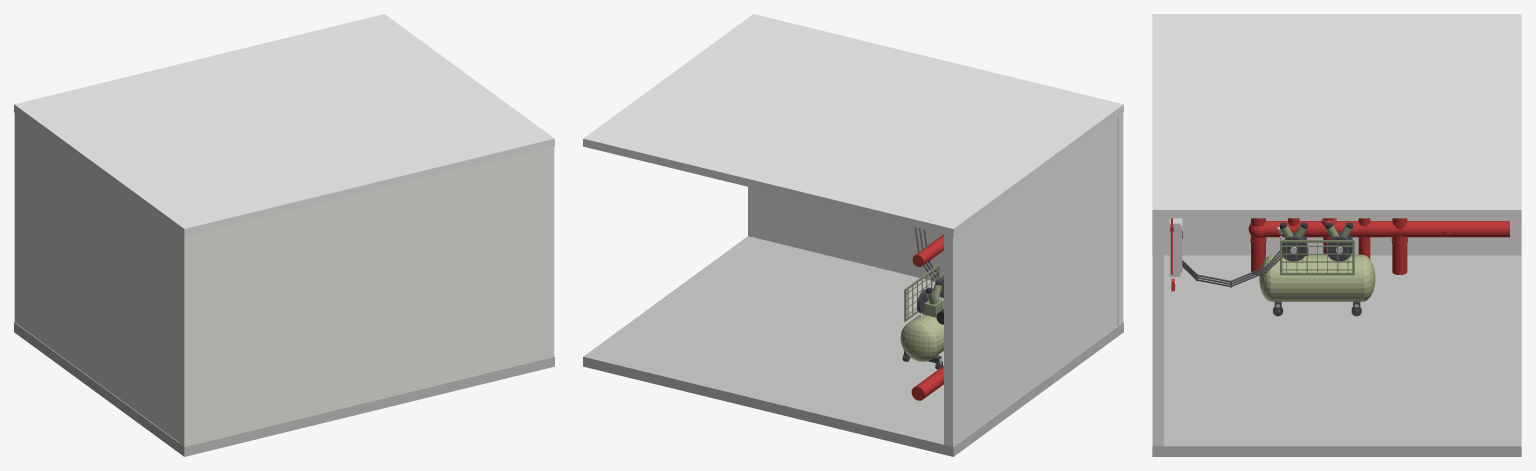
The model's file is preaction-valve-room.glb.
3 renders of one model, left to right at view 1: azimuth 30°, elevation 25°; view 2: azimuth 150°, elevation 25°; view 3: azimuth 270°, elevation 25°, orthographic. The views are drawn at different scales.
Parts seen in each view (by area): view 1: PA_Wall_Back, PA_Ceil, PA_Wall_Side, PA_Floor; view 2: PA_Ceil, PA_Floor, PA_Wall_Side, PA_Wall_Back, PA_Comp_TankR, PA_Header_ExitLo; view 3: PA_Ceil, PA_Floor, PA_Wall_Side, PA_Comp_Tank, PA_Header_ExitLo, PA_Wall_Back, PA_Valve5_Riser, PA_Panel_Main, PA_Valve1_Riser, PA_Comp_TankR, PA_Comp_TankL, PA_Comp_U1Fly (+1 smaller).
Part boxes in pixels (x1=…): PA_Wall_Back: x1=179, y1=147, x2=554, y2=446; PA_Ceil: x1=14, y1=14, x2=554, y2=236; PA_Wall_Side: x1=14, y1=113, x2=193, y2=446; PA_Floor: x1=14, y1=322, x2=554, y2=456; PA_Ceil: x1=583, y1=14, x2=1123, y2=236; PA_Floor: x1=583, y1=236, x2=1123, y2=456; PA_Wall_Side: x1=944, y1=117, x2=1117, y2=446; PA_Wall_Back: x1=748, y1=113, x2=1123, y2=326; PA_Comp_TankR: x1=900, y1=320, x2=938, y2=361; PA_Header_ExitLo: x1=911, y1=366, x2=943, y2=400; PA_Ceil: x1=1152, y1=14, x2=1521, y2=218; PA_Floor: x1=1152, y1=255, x2=1521, y2=456; PA_Wall_Side: x1=1152, y1=218, x2=1521, y2=255; PA_Comp_Tank: x1=1272, y1=254, x2=1362, y2=301; PA_Header_ExitLo: x1=1263, y1=221, x2=1509, y2=237; PA_Wall_Back: x1=1153, y1=218, x2=1163, y2=446; PA_Valve5_Riser: x1=1392, y1=218, x2=1407, y2=274; PA_Panel_Main: x1=1169, y1=218, x2=1180, y2=276; PA_Valve1_Riser: x1=1251, y1=218, x2=1265, y2=274; PA_Comp_TankR: x1=1361, y1=255, x2=1375, y2=301; PA_Comp_TankL: x1=1259, y1=255, x2=1273, y2=301; PA_Comp_U1Fly: x1=1326, y1=236, x2=1352, y2=261.
Bounding box in the file's own units: 5.9 × 3.47 × 4.7.
